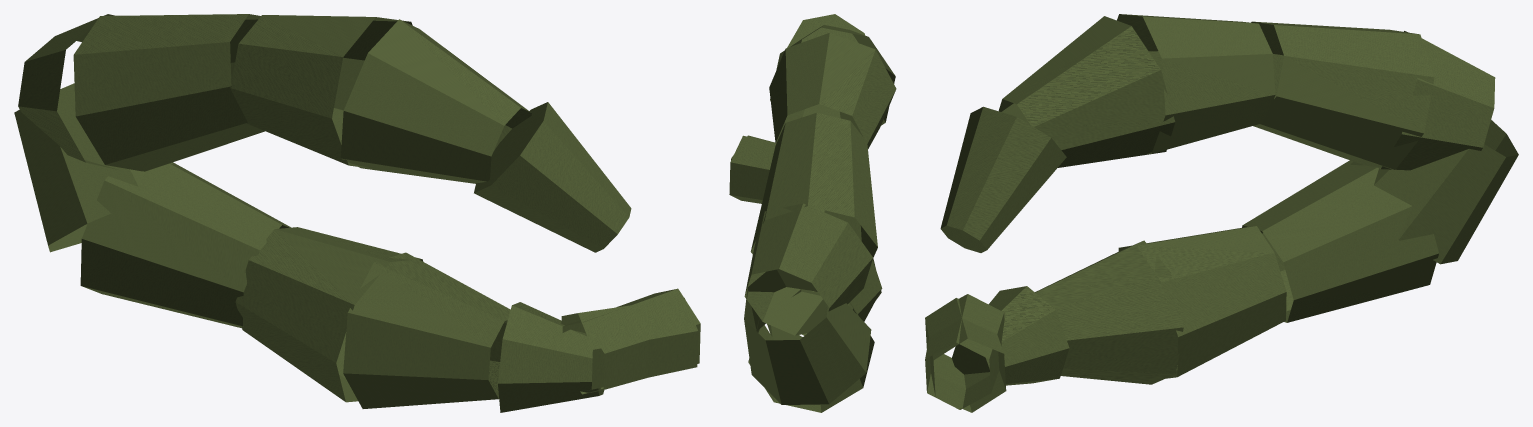
Rendered from pack_rice_tube.glb.
3 views of the same model, side by side, from view 1: azimuth 30°, elevation 25°; view 2: azimuth 150°, elevation 25°; view 3: azimuth 270°, elevation 25° (orthographic). The views are drawn at different scales.
Parts seen in each view (by area): view 1: pack_rice_tube; view 2: pack_rice_tube; view 3: pack_rice_tube.
Boxes of the visible parts, x1=… form: pack_rice_tube: x1=14, y1=14, x2=700, y2=412; pack_rice_tube: x1=729, y1=14, x2=896, y2=412; pack_rice_tube: x1=925, y1=14, x2=1518, y2=412.
Bounding box in the file's own units: 0.3744 × 0.3527 × 0.5303.
Materials: 1 (1 with a texture image).
